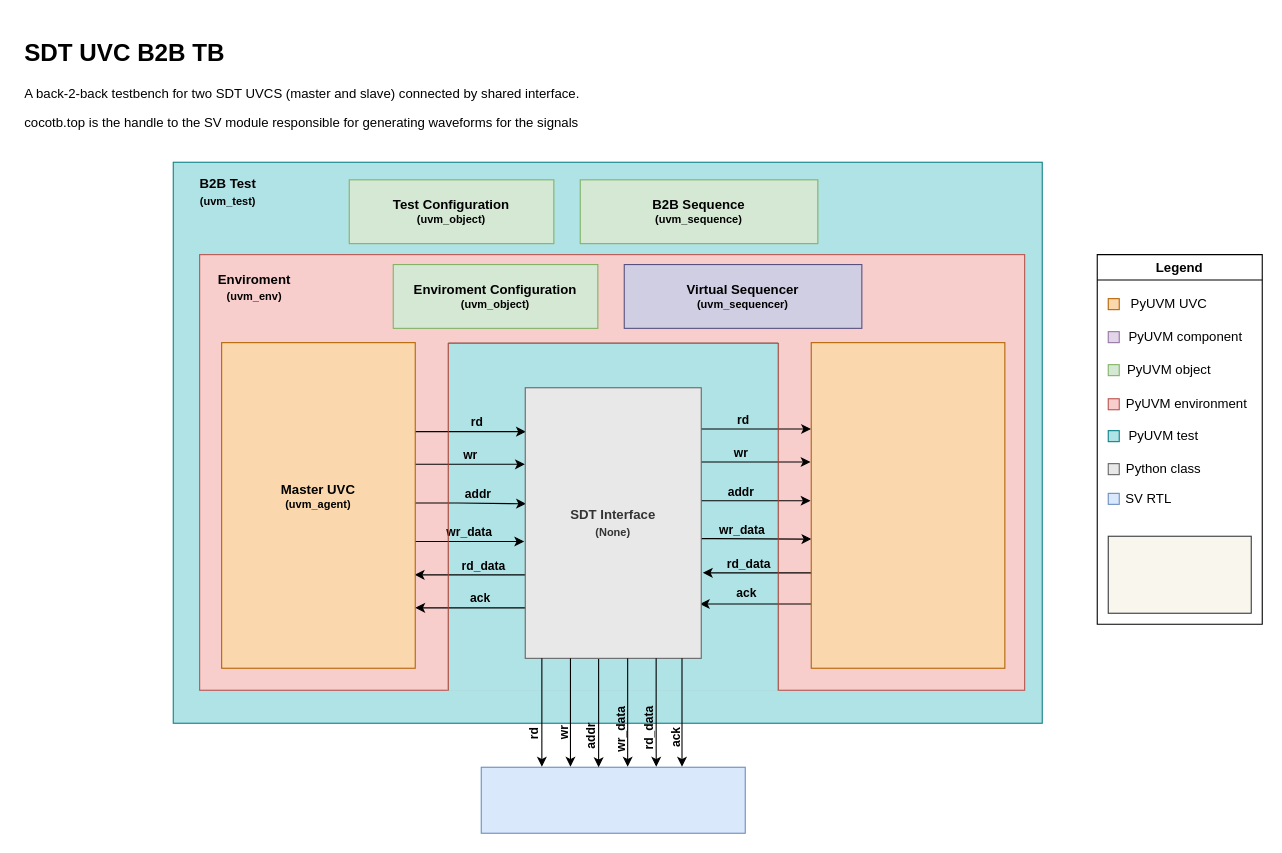
Some shapes in this 1282 by 853 pixel diagram are drawn without their labels. Each missing label, with the centre of its shape:
"<Abstract Name> (<Derived from Class>) (<Class Name>)" belongs at point (1179, 574).
"cocotb.top" belongs at point (612, 799).
"Slave UVC (uvm_agent)" belongs at point (907, 505).
